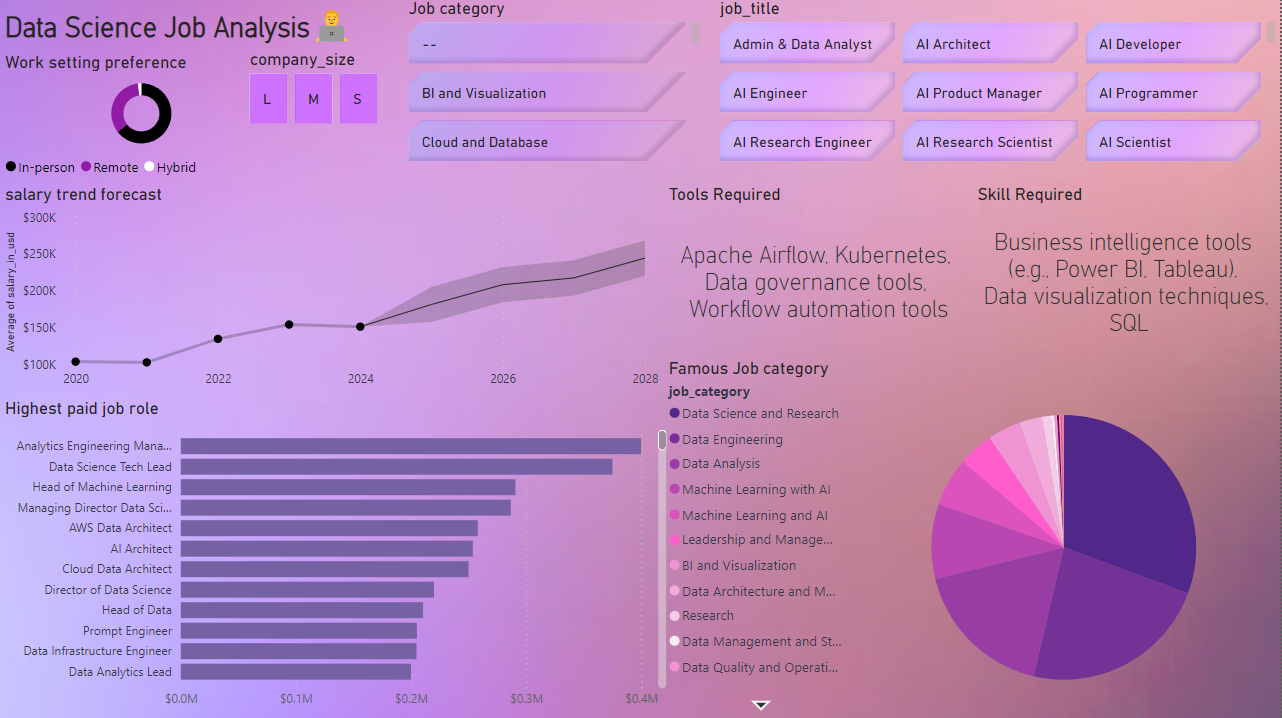

The dashboard page shown, as its layout file describes it:
{"tool":"powerbi","page":{"name":"Main dashboard","canvas":[1280,720],"ordinal":0},"visuals":[{"type":"barChart","title":"Highest paid job role","fields":{"Y":["Avg(Final combined data.salary_in_usd)"],"Category":["Final combined data.job_title"]},"box":[0,400,671.4,319.5],"z":0},{"type":"textbox","box":[0,0,395,53.8],"z":1000},{"type":"lineChart","title":"salary trend forecast","fields":{"Category":["Final combined data.work_year"],"Y":["Avg(Final combined data.salary_in_usd)"]},"box":[0,186.8,663.1,212.5],"z":2000},{"type":"advancedSlicerVisual","fields":{"Values":["Final combined data.job_title"]},"box":[715,0,565,168.8],"z":3000},{"type":"card","title":"Skill Required","fields":{"Values":["Min(skills_tools_dataset.Column2)"]},"box":[973.1,186.8,307.2,173.2],"z":4000},{"type":"card","title":"Tools Required","fields":{"Values":["Min(skills_tools_dataset.Column3)"]},"box":[663.3,186.7,310,173.3],"z":5000},{"type":"advancedSlicerVisual","title":"Job category","fields":{"Values":["skills_tools_dataset.Column1"]},"box":[403.9,0,300,168.8],"z":6000},{"type":"pieChart","title":"Famous Job category","fields":{"Category":["Final combined data.job_category"],"Y":["CountNonNull(Final combined data.job_title)"]},"box":[663.1,360,617.1,360],"z":7000},{"type":"donutChart","title":"Work setting preference","fields":{"Category":["Final combined data.work_setting"],"Y":["CountNonNull(Final combined data.company_size)"]},"box":[0,53.2,283.1,133.8],"z":8000},{"type":"advancedSlicerVisual","fields":{"Values":["Final combined data.company_size"]},"box":[245.5,50.6,139,79.2],"z":9000}]}

Visuals, with their boxes in screenshot pixels (x1, y1, x2, y2), scaled from the page's 1280x720 canvas onto the 1282x718 screenshot:
"Highest paid job role" barChart: x1=0 y1=399 x2=672 y2=717
textbox: x1=0 y1=0 x2=396 y2=54
"salary trend forecast" lineChart: x1=0 y1=186 x2=664 y2=398
advancedSlicerVisual - Final combined data.job_title: x1=716 y1=0 x2=1281 y2=168
"Skill Required" card: x1=975 y1=186 x2=1281 y2=359
"Tools Required" card: x1=664 y1=186 x2=975 y2=359
"Job category" advancedSlicerVisual: x1=405 y1=0 x2=705 y2=168
"Famous Job category" pieChart: x1=664 y1=359 x2=1281 y2=717
"Work setting preference" donutChart: x1=0 y1=53 x2=284 y2=186
advancedSlicerVisual - Final combined data.company_size: x1=246 y1=50 x2=385 y2=129
